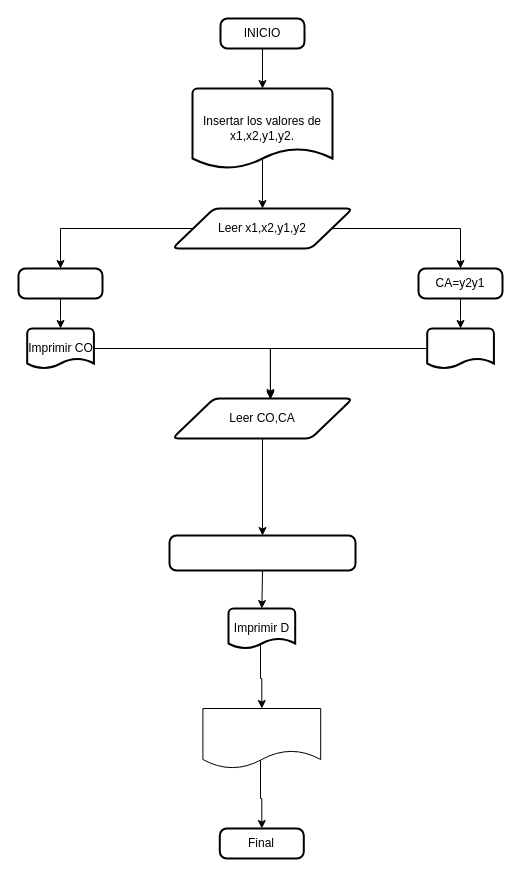
Image size: 520x876. Some labels were removed from this diagram. Each missing label, with the centre of its shape:
CO=x2-x1: (x=60, y=283)
D = SQRT((co*co)+(ca*ca)): (x=262, y=552)
Escribir "El valor de la distancia es: ", D: (x=261, y=738)
Imprimir CA: (x=460, y=348)
